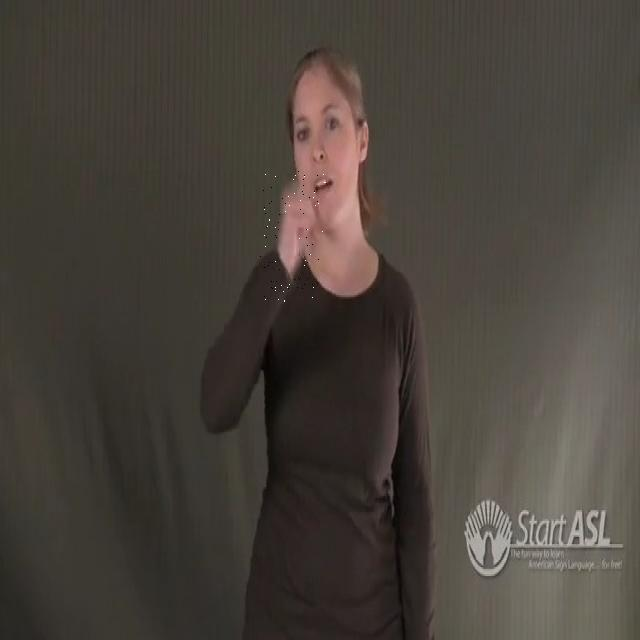icecream: (260, 168, 326, 302)
